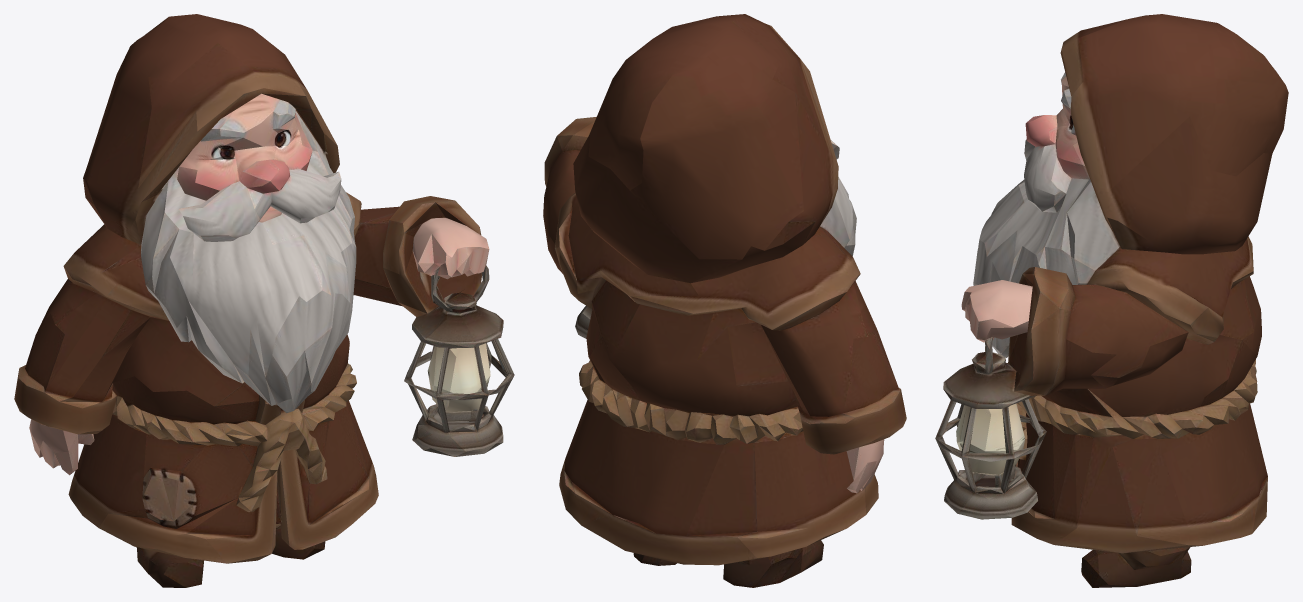
The model's file is guia.glb.
The picture shows the model from 3 angles, left to right: view 1: azimuth 30°, elevation 25°; view 2: azimuth 150°, elevation 25°; view 3: azimuth 270°, elevation 25°; orthographic projection. The views are drawn at different scales.
Bounding box in the file's own units: 1.53 × 1.9 × 1.15.
Materials: 1 (1 with a texture image).
